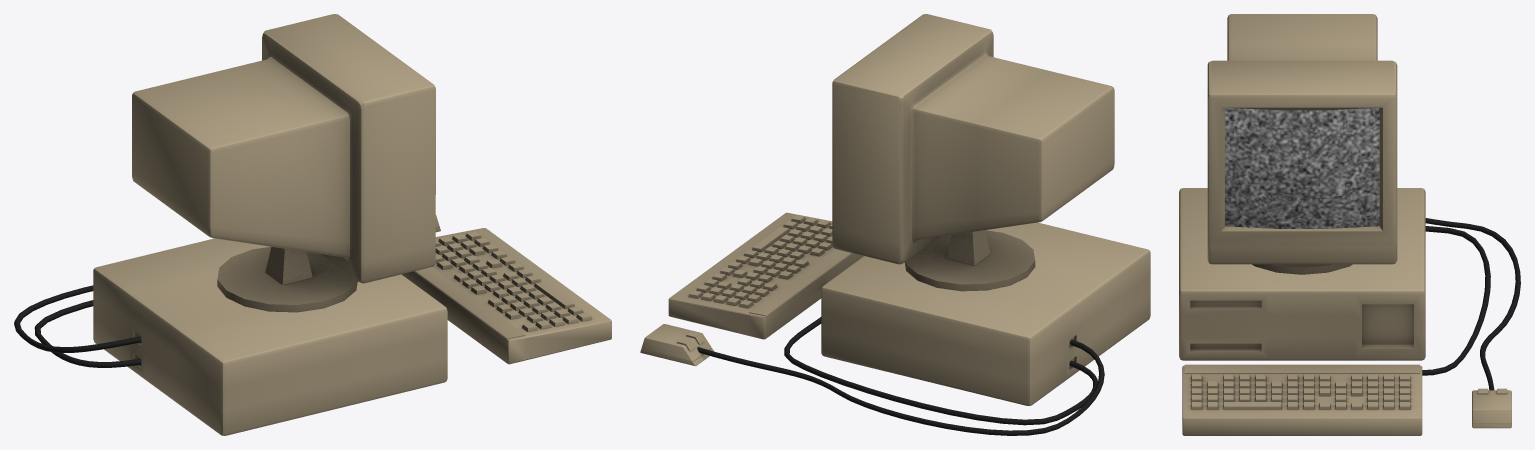
The model's file is Computer1.obj.
3 renders of one model, left to right at view 1: azimuth 30°, elevation 25°; view 2: azimuth 150°, elevation 25°; view 3: azimuth 270°, elevation 25°, orthographic. The views are drawn at different scales.
Parts seen in each view (by area): view 1: Monitor.000_Cube.000, Computer.000_Cube.001, Keyboard.000_Cube.003, M_Cable.000_CUBezierCurve.001, K_Cable.000_CUBezierCurve.000; view 2: Monitor.000_Cube.000, Computer.000_Cube.001, Keyboard.000_Cube.003, M_Cable.000_CUBezierCurve.001, K_Cable.000_CUBezierCurve.000, Mouse.000_Cube.004; view 3: Monitor.000_Cube.000, Computer.000_Cube.001, Keyboard.000_Cube.003, Mouse.000_Cube.004, M_Cable.000_CUBezierCurve.001, K_Cable.000_CUBezierCurve.000.
Boxes of the visible parts, <box> form: Monitor.000_Cube.000: <box>132,14,435,312</box>; Computer.000_Cube.001: <box>93,238,447,435</box>; Keyboard.000_Cube.003: <box>402,228,611,364</box>; M_Cable.000_CUBezierCurve.001: <box>14,285,141,352</box>; K_Cable.000_CUBezierCurve.000: <box>34,300,141,367</box>; Monitor.000_Cube.000: <box>832,14,1114,291</box>; Computer.000_Cube.001: <box>821,222,1150,405</box>; Keyboard.000_Cube.003: <box>668,212,863,339</box>; M_Cable.000_CUBezierCurve.001: <box>697,339,1104,435</box>; K_Cable.000_CUBezierCurve.000: <box>784,317,1097,425</box>; Mouse.000_Cube.004: <box>640,324,713,366</box>; Monitor.000_Cube.000: <box>1207,14,1397,274</box>; Computer.000_Cube.001: <box>1179,188,1425,360</box>; Keyboard.000_Cube.003: <box>1182,364,1422,435</box>; Mouse.000_Cube.004: <box>1472,388,1511,428</box>; M_Cable.000_CUBezierCurve.001: <box>1425,218,1520,390</box>; K_Cable.000_CUBezierCurve.000: <box>1422,226,1490,375</box>.
Bounding box in the file's own units: 5.17 × 3.14 × 3.6.
6 materials, 5 textured.
